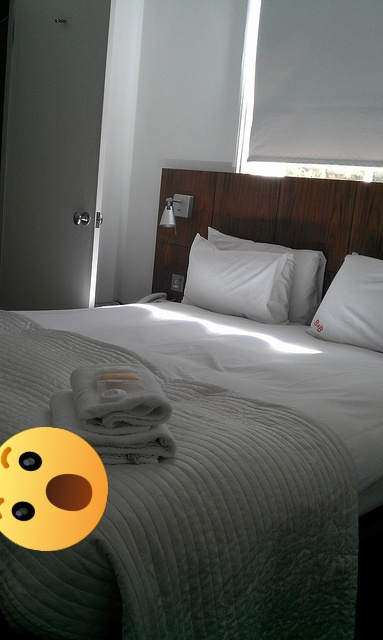wow: (0, 427, 108, 551)
